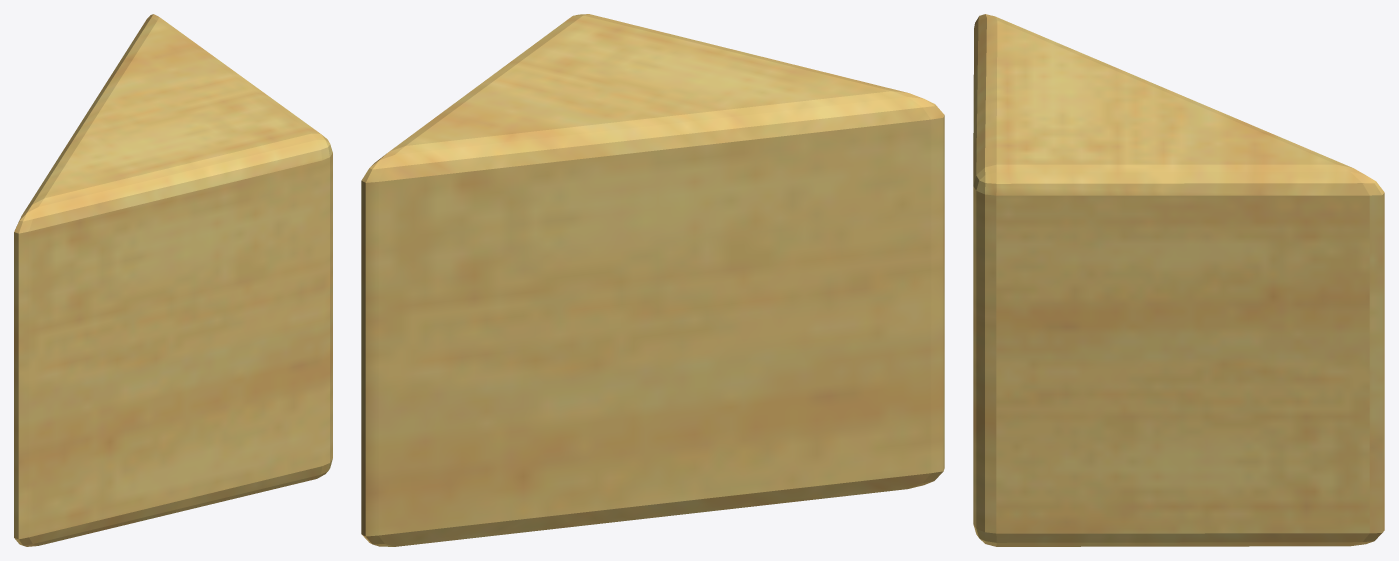
Rendered from TriPrisim.fbx.
The picture shows the model from 3 angles, left to right: view 1: azimuth 30°, elevation 25°; view 2: azimuth 150°, elevation 25°; view 3: azimuth 270°, elevation 25°; orthographic projection. The views are drawn at different scales.
Parts seen in each view (by area): view 1: Cylinder; view 2: Cylinder; view 3: Cylinder.
Part boxes in pixels (x1,y1,x2,y2): Cylinder: (14,14,332,546); Cylinder: (361,14,944,546); Cylinder: (973,14,1384,546).
Size of the model in its own units: 393 by 400 by 392.
